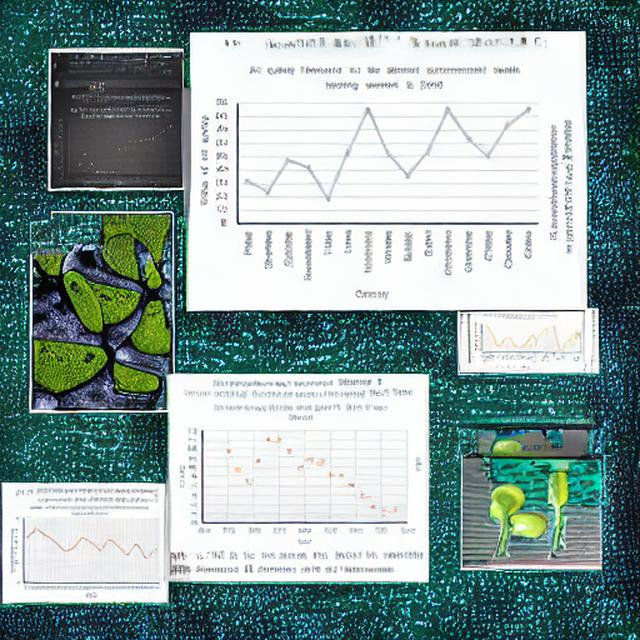Graph: (191, 57, 545, 308), (171, 400, 415, 544), (3, 503, 162, 598), (51, 106, 182, 188), (472, 312, 569, 369)
